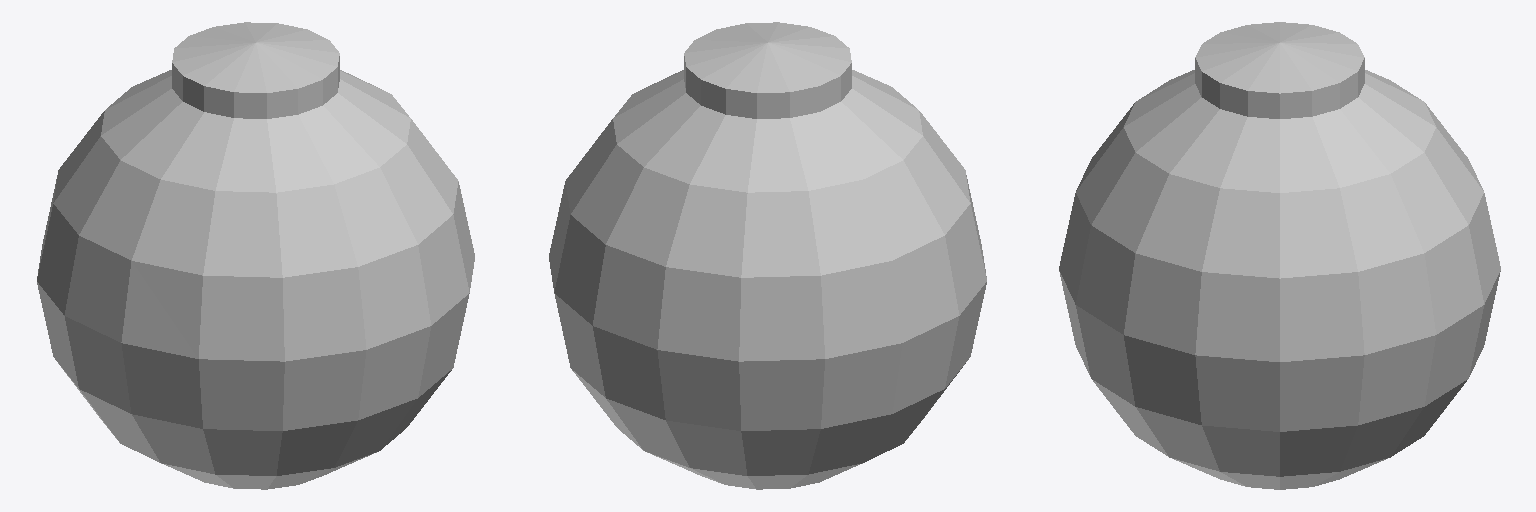
Rendered from flechettegrenade.obj.
3 renders of one model, left to right at view 1: azimuth 30°, elevation 25°; view 2: azimuth 150°, elevation 25°; view 3: azimuth 270°, elevation 25°, orthographic.
Visible parts, largest first — view 1: flechettegrenade; view 2: flechettegrenade; view 3: flechettegrenade.
Part boxes in pixels (left/top/right/bottom): flechettegrenade: left=37, top=22, right=474, bottom=489; flechettegrenade: left=549, top=22, right=986, bottom=489; flechettegrenade: left=1059, top=22, right=1500, bottom=489.
Bounding box in the file's own units: 0.2191 × 0.2332 × 0.2191.